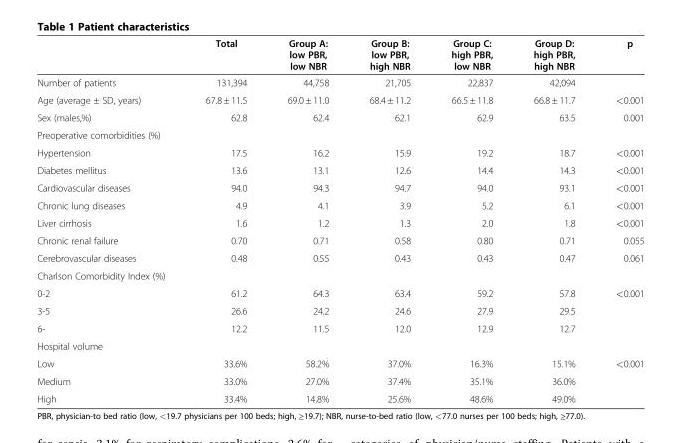table: (36, 37, 643, 404)
table column: (36, 37, 184, 404), (184, 37, 266, 404), (266, 37, 348, 404), (348, 37, 430, 404), (430, 37, 512, 404), (512, 37, 594, 404), (594, 37, 643, 404)
table column header: (36, 37, 643, 73)
table projected row header: (36, 125, 643, 143), (36, 266, 643, 284), (36, 336, 643, 354)
table row: (36, 37, 643, 73), (36, 90, 643, 108), (36, 125, 643, 143), (36, 143, 643, 161), (36, 178, 643, 196), (36, 213, 643, 231), (36, 248, 643, 266), (36, 266, 643, 284), (36, 301, 643, 319), (36, 336, 643, 354), (36, 354, 643, 372), (36, 73, 643, 90), (36, 108, 643, 125), (36, 161, 643, 178), (36, 196, 643, 213), (36, 231, 643, 248), (36, 284, 643, 301), (36, 319, 643, 336), (36, 372, 643, 389), (36, 389, 643, 404)
